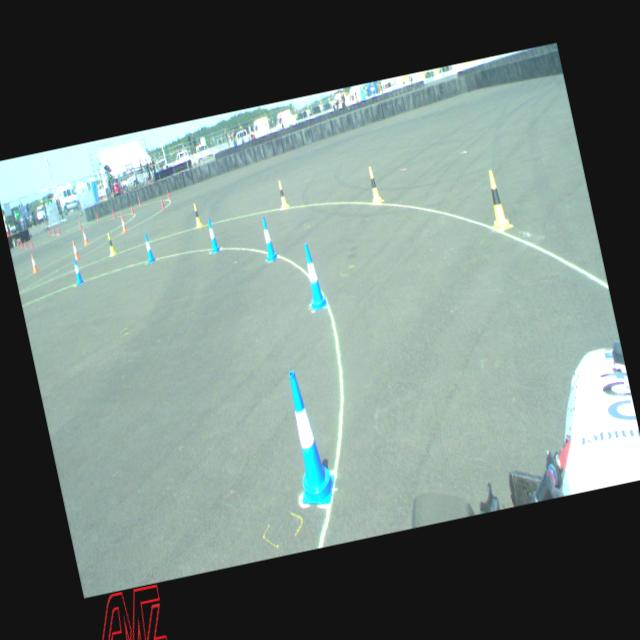blue_cone: (275, 367, 339, 508), (298, 242, 326, 310), (257, 215, 278, 261), (204, 217, 220, 253), (142, 232, 154, 262), (72, 256, 84, 285)
orange_cone: (28, 252, 38, 272), (118, 212, 127, 232), (72, 240, 80, 260), (81, 229, 88, 244)
unknown_cone: (160, 197, 165, 209), (112, 208, 116, 218), (130, 204, 134, 214), (29, 238, 33, 248), (23, 238, 27, 248), (19, 238, 23, 248), (52, 227, 56, 236), (46, 227, 50, 236), (15, 238, 19, 247), (78, 220, 82, 228), (56, 226, 60, 234), (95, 212, 99, 220), (167, 190, 170, 200), (138, 197, 141, 206)
yellow_cone: (482, 169, 511, 231), (364, 164, 382, 204), (276, 180, 288, 207), (104, 232, 116, 256), (192, 203, 202, 227)
